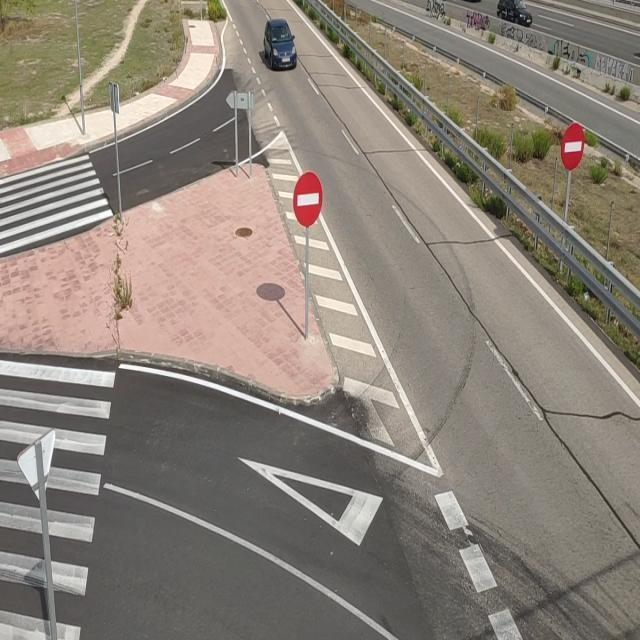Car: (251, 14, 308, 82)
